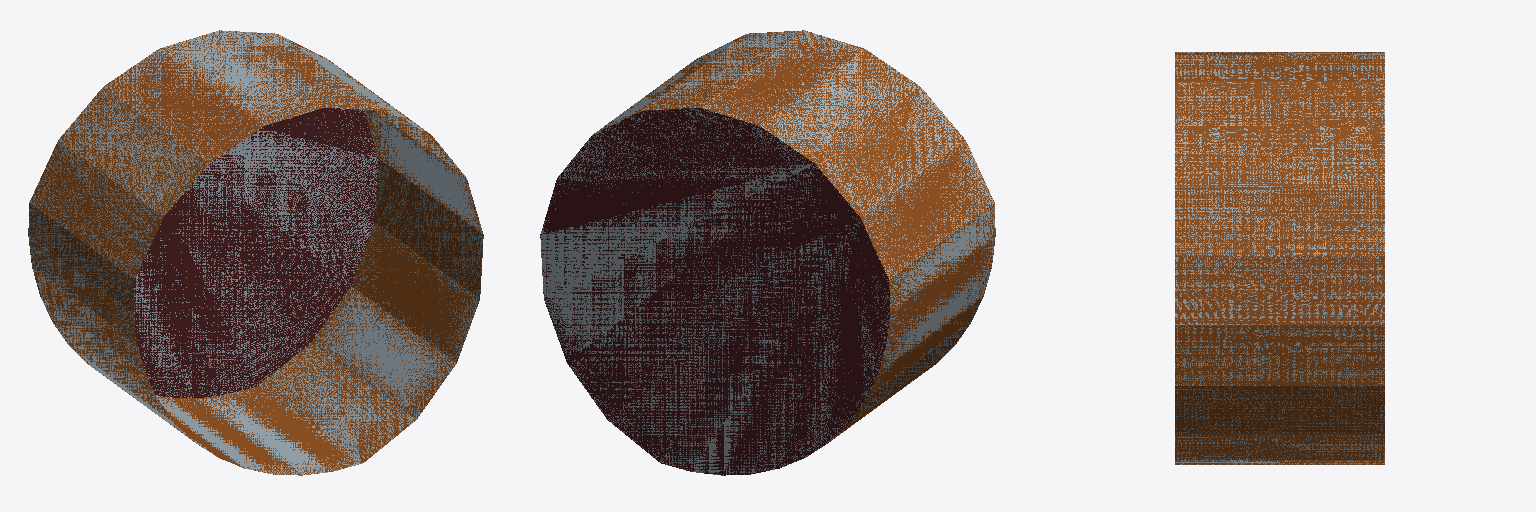
The model's file is billiards_hole_center.obj.
3 renders of one model, left to right at view 1: azimuth 30°, elevation 25°; view 2: azimuth 150°, elevation 25°; view 3: azimuth 270°, elevation 25°, orthographic.
Visible parts, largest first — view 1: Mesh1 Model; view 2: Mesh1 Model; view 3: Mesh1 Model.
Part boxes in pixels (left/top/right/bottom): Mesh1 Model: left=28, top=30, right=483, bottom=475; Mesh1 Model: left=540, top=30, right=995, bottom=475; Mesh1 Model: left=1175, top=52, right=1384, bottom=464.
Bounding box in the file's own units: 2 × 2 × 1.04.